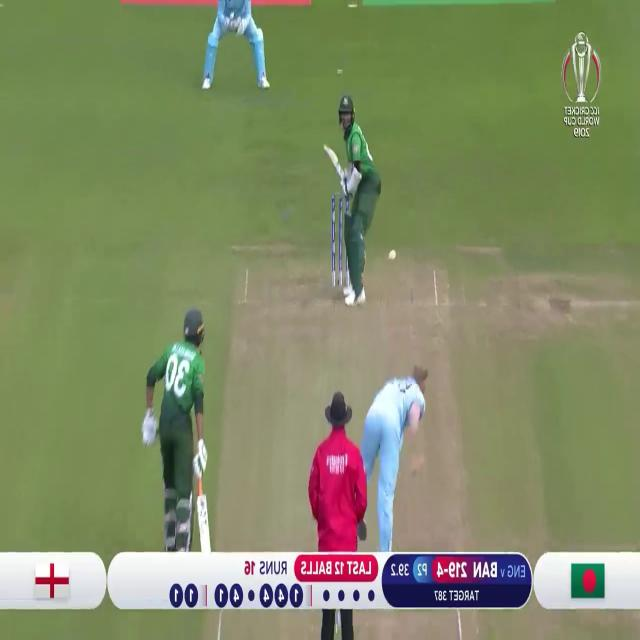ball: (386, 245, 398, 265)
